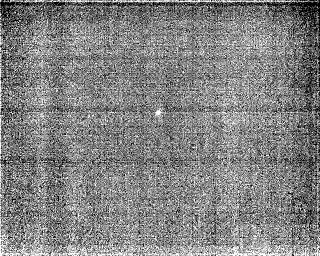BIRD: (153, 107, 164, 120)
